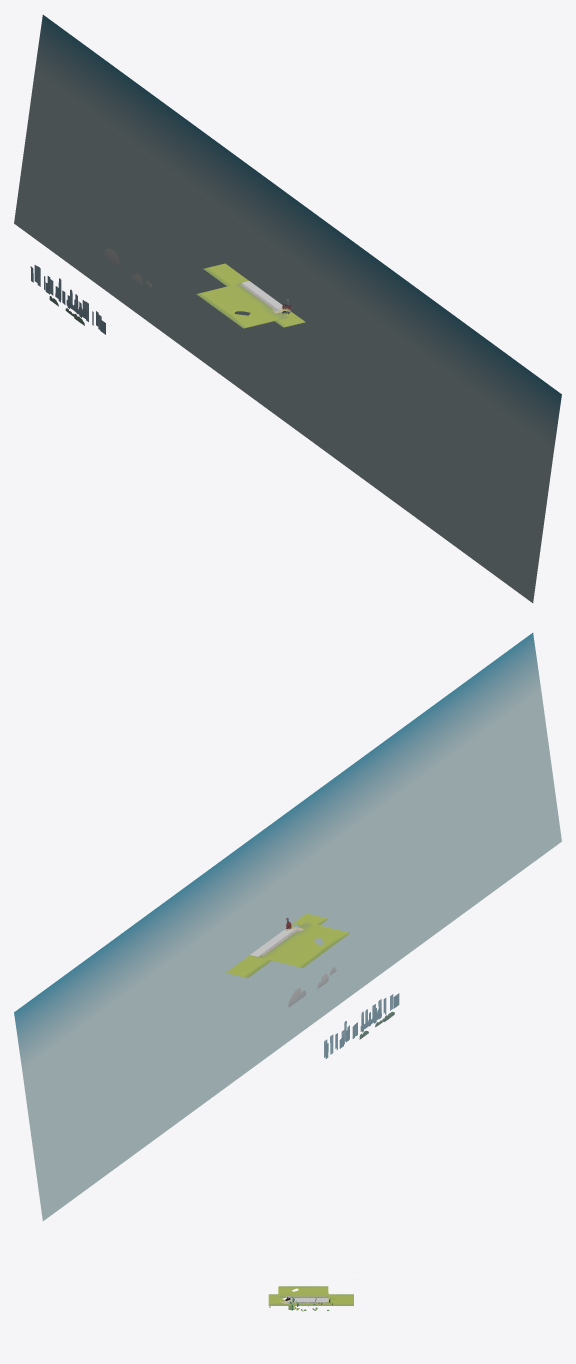
File: TomYardFlattened.glb
3 renders of one model, top to bottom at view 1: azimuth 30°, elevation 25°; view 2: azimuth 150°, elevation 25°; view 3: azimuth 270°, elevation 25°, orthographic. The views are drawn at different scales.
Visible parts, largest first — view 1: Background_Gradient_Tom, Static_Yard, Background_Gradient_Tom.001; view 2: Background_Gradient_Tom, Static_Yard, Background_Gradient_Tom.001; view 3: Static_Yard, Pool_Ground_L0, Pool_Ground_L1_L2_L3_L4_L5.
Part boxes in pixels (box(x1,y1,x2,y2)): Background_Gradient_Tom: box(14, 15, 561, 602); Static_Yard: box(196, 283, 288, 328); Background_Gradient_Tom.001: box(30, 248, 152, 334); Background_Gradient_Tom: box(14, 633, 561, 1220); Static_Yard: box(258, 922, 349, 967); Background_Gradient_Tom.001: box(288, 967, 399, 1058); Static_Yard: box(278, 1286, 333, 1311); Pool_Ground_L0: box(268, 1294, 353, 1305); Pool_Ground_L1_L2_L3_L4_L5: box(268, 1294, 336, 1305).
Bounding box in the file's own units: 4536 × 4357 × 20287.
